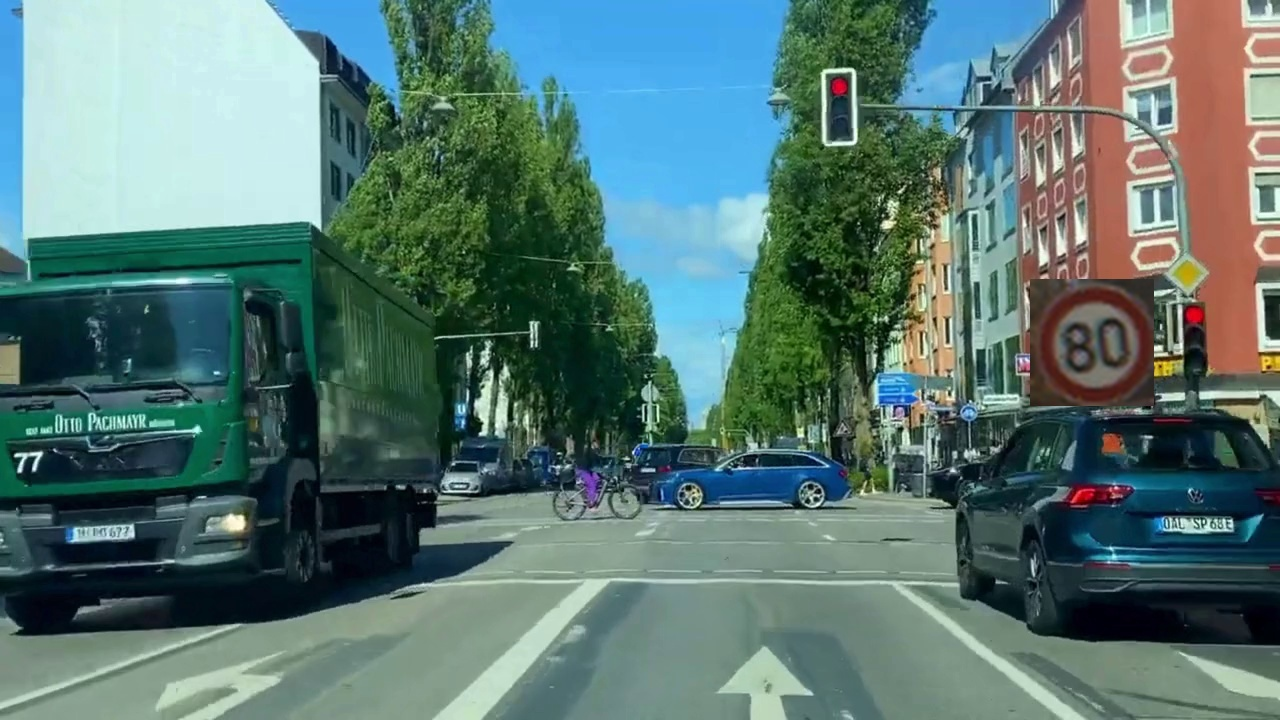Speed 80: (1030, 279, 1154, 406)
